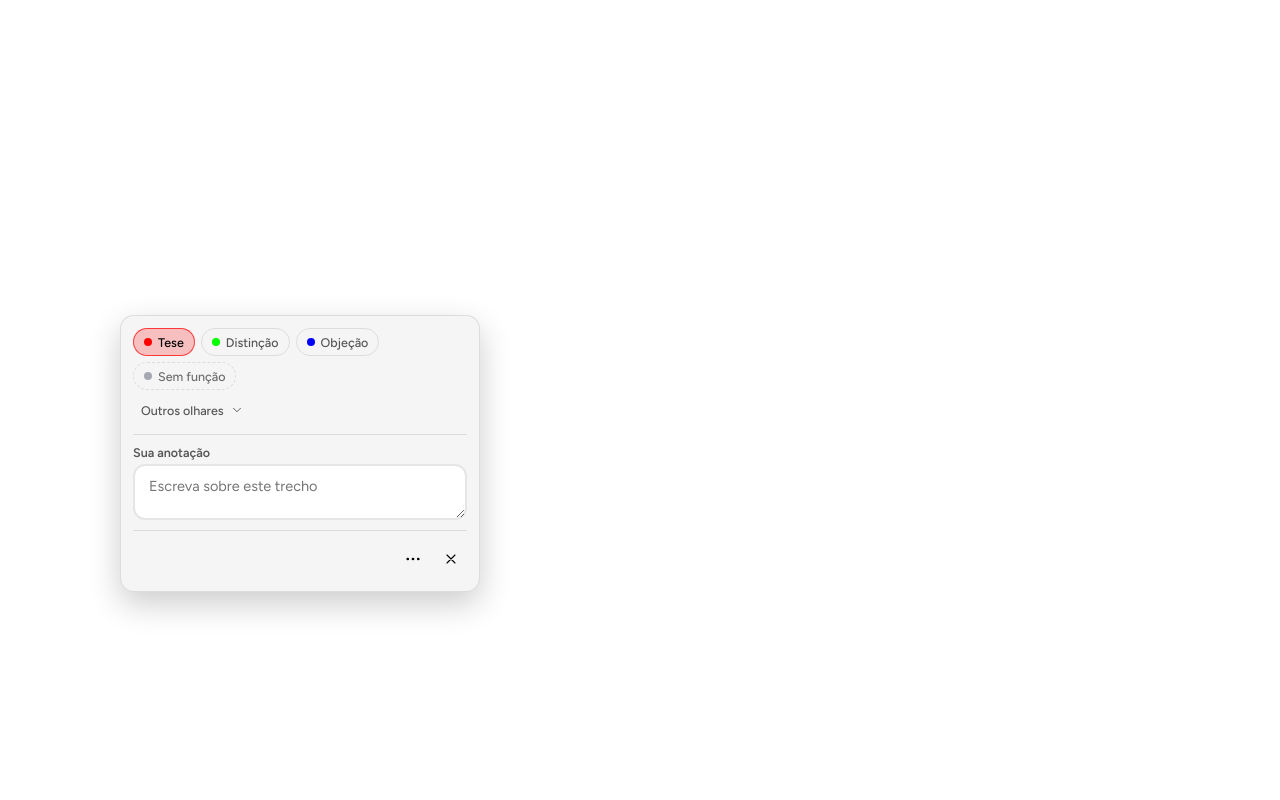
Test case: outros olhares: as funções de todos os modos, agrupadas e pesquisáveis; escolher leva o grifo para aquele modo e lembra o olhar
This screenshot has width=1280, height=800.
Click the button "Outros olhares": click(192, 410) [133,396,252,424]
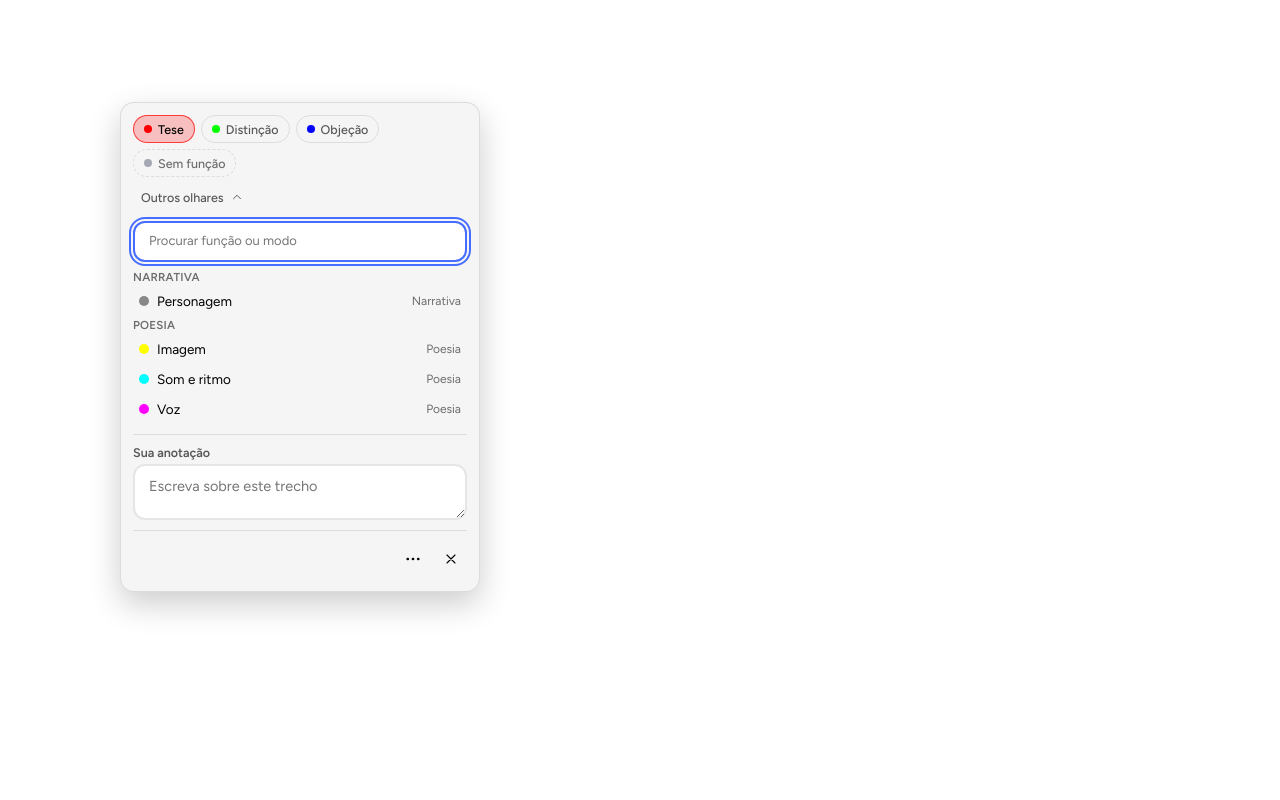
In the search field named "Procurar entre outros olhares": (300, 241) [133,221,467,262], type "ritmo"
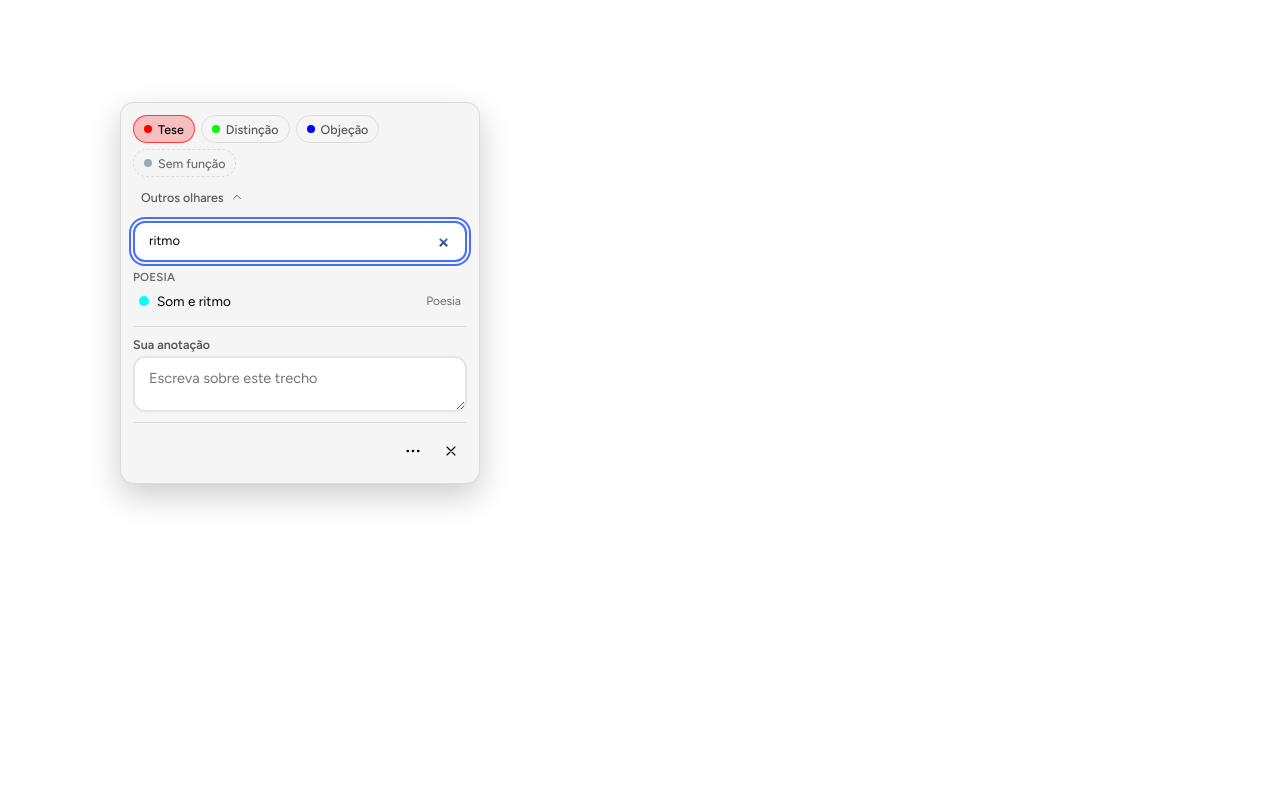
Expected: the options read "Som e ritmoPoesia", in this order
Click the option "Som e ritmo Poesia": click(194, 301) [133,286,467,316]
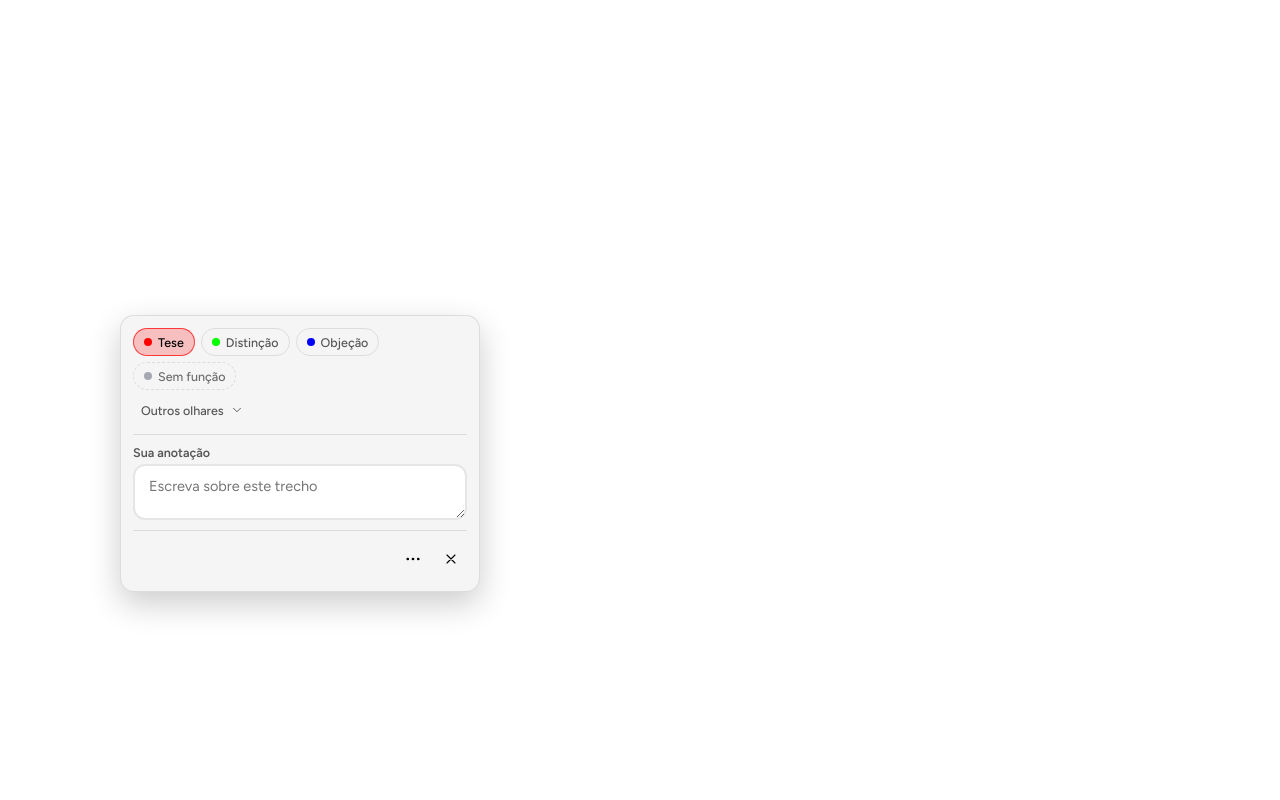
Expected: the list is gone
